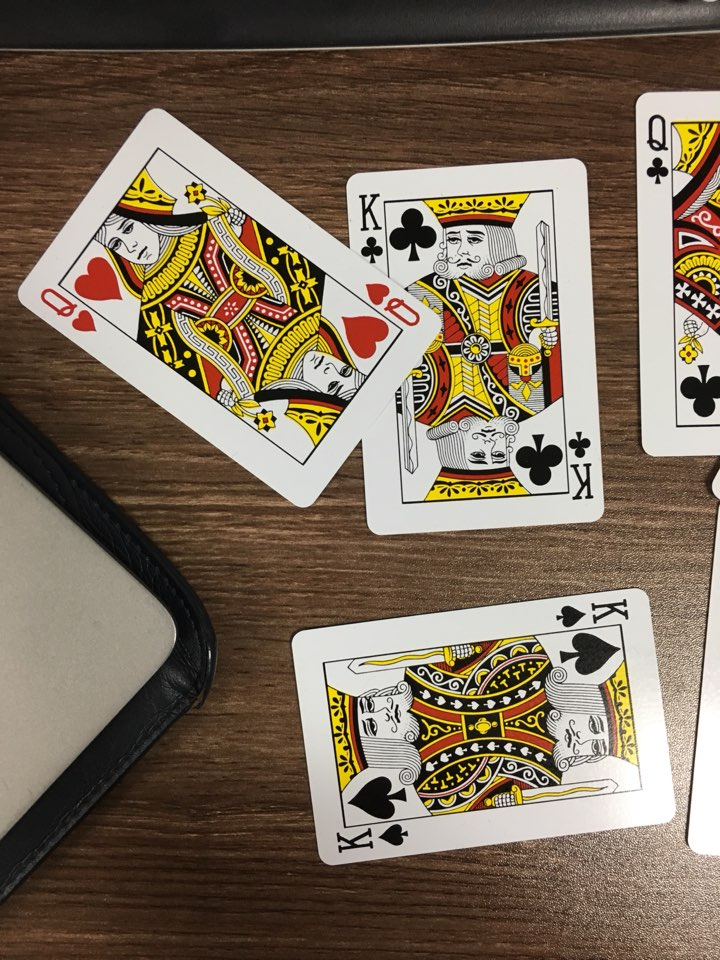king: (252, 576, 698, 878), (331, 140, 632, 551)
queen: (5, 92, 454, 524), (618, 60, 720, 478)
